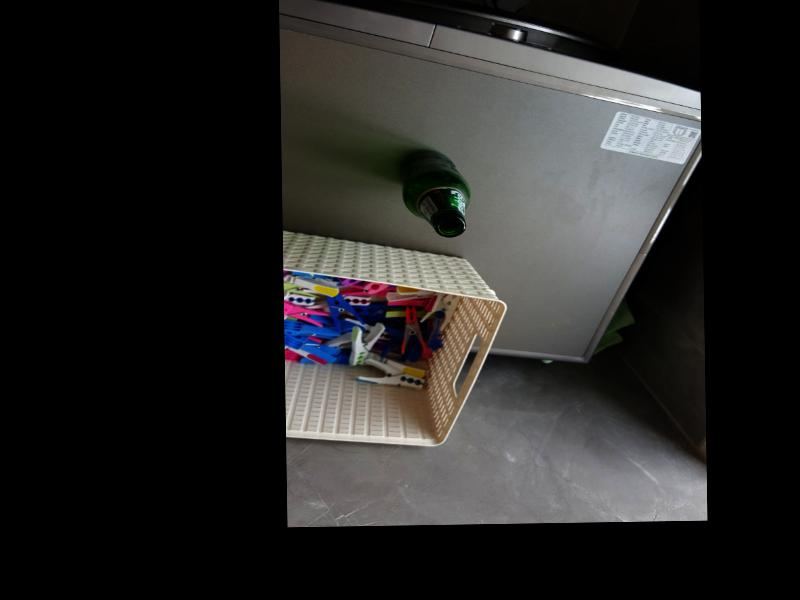Beer: (400, 147, 466, 237)
